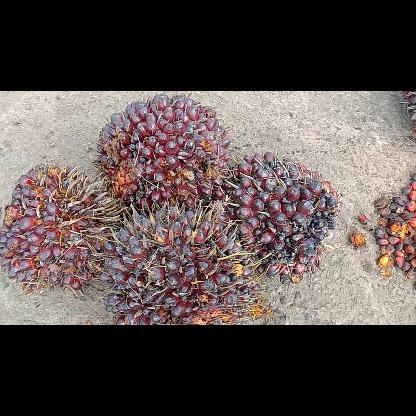Kurang masak: (94, 196, 274, 324), (211, 147, 343, 289), (0, 160, 125, 298)
TBS masak: (90, 90, 240, 222)
